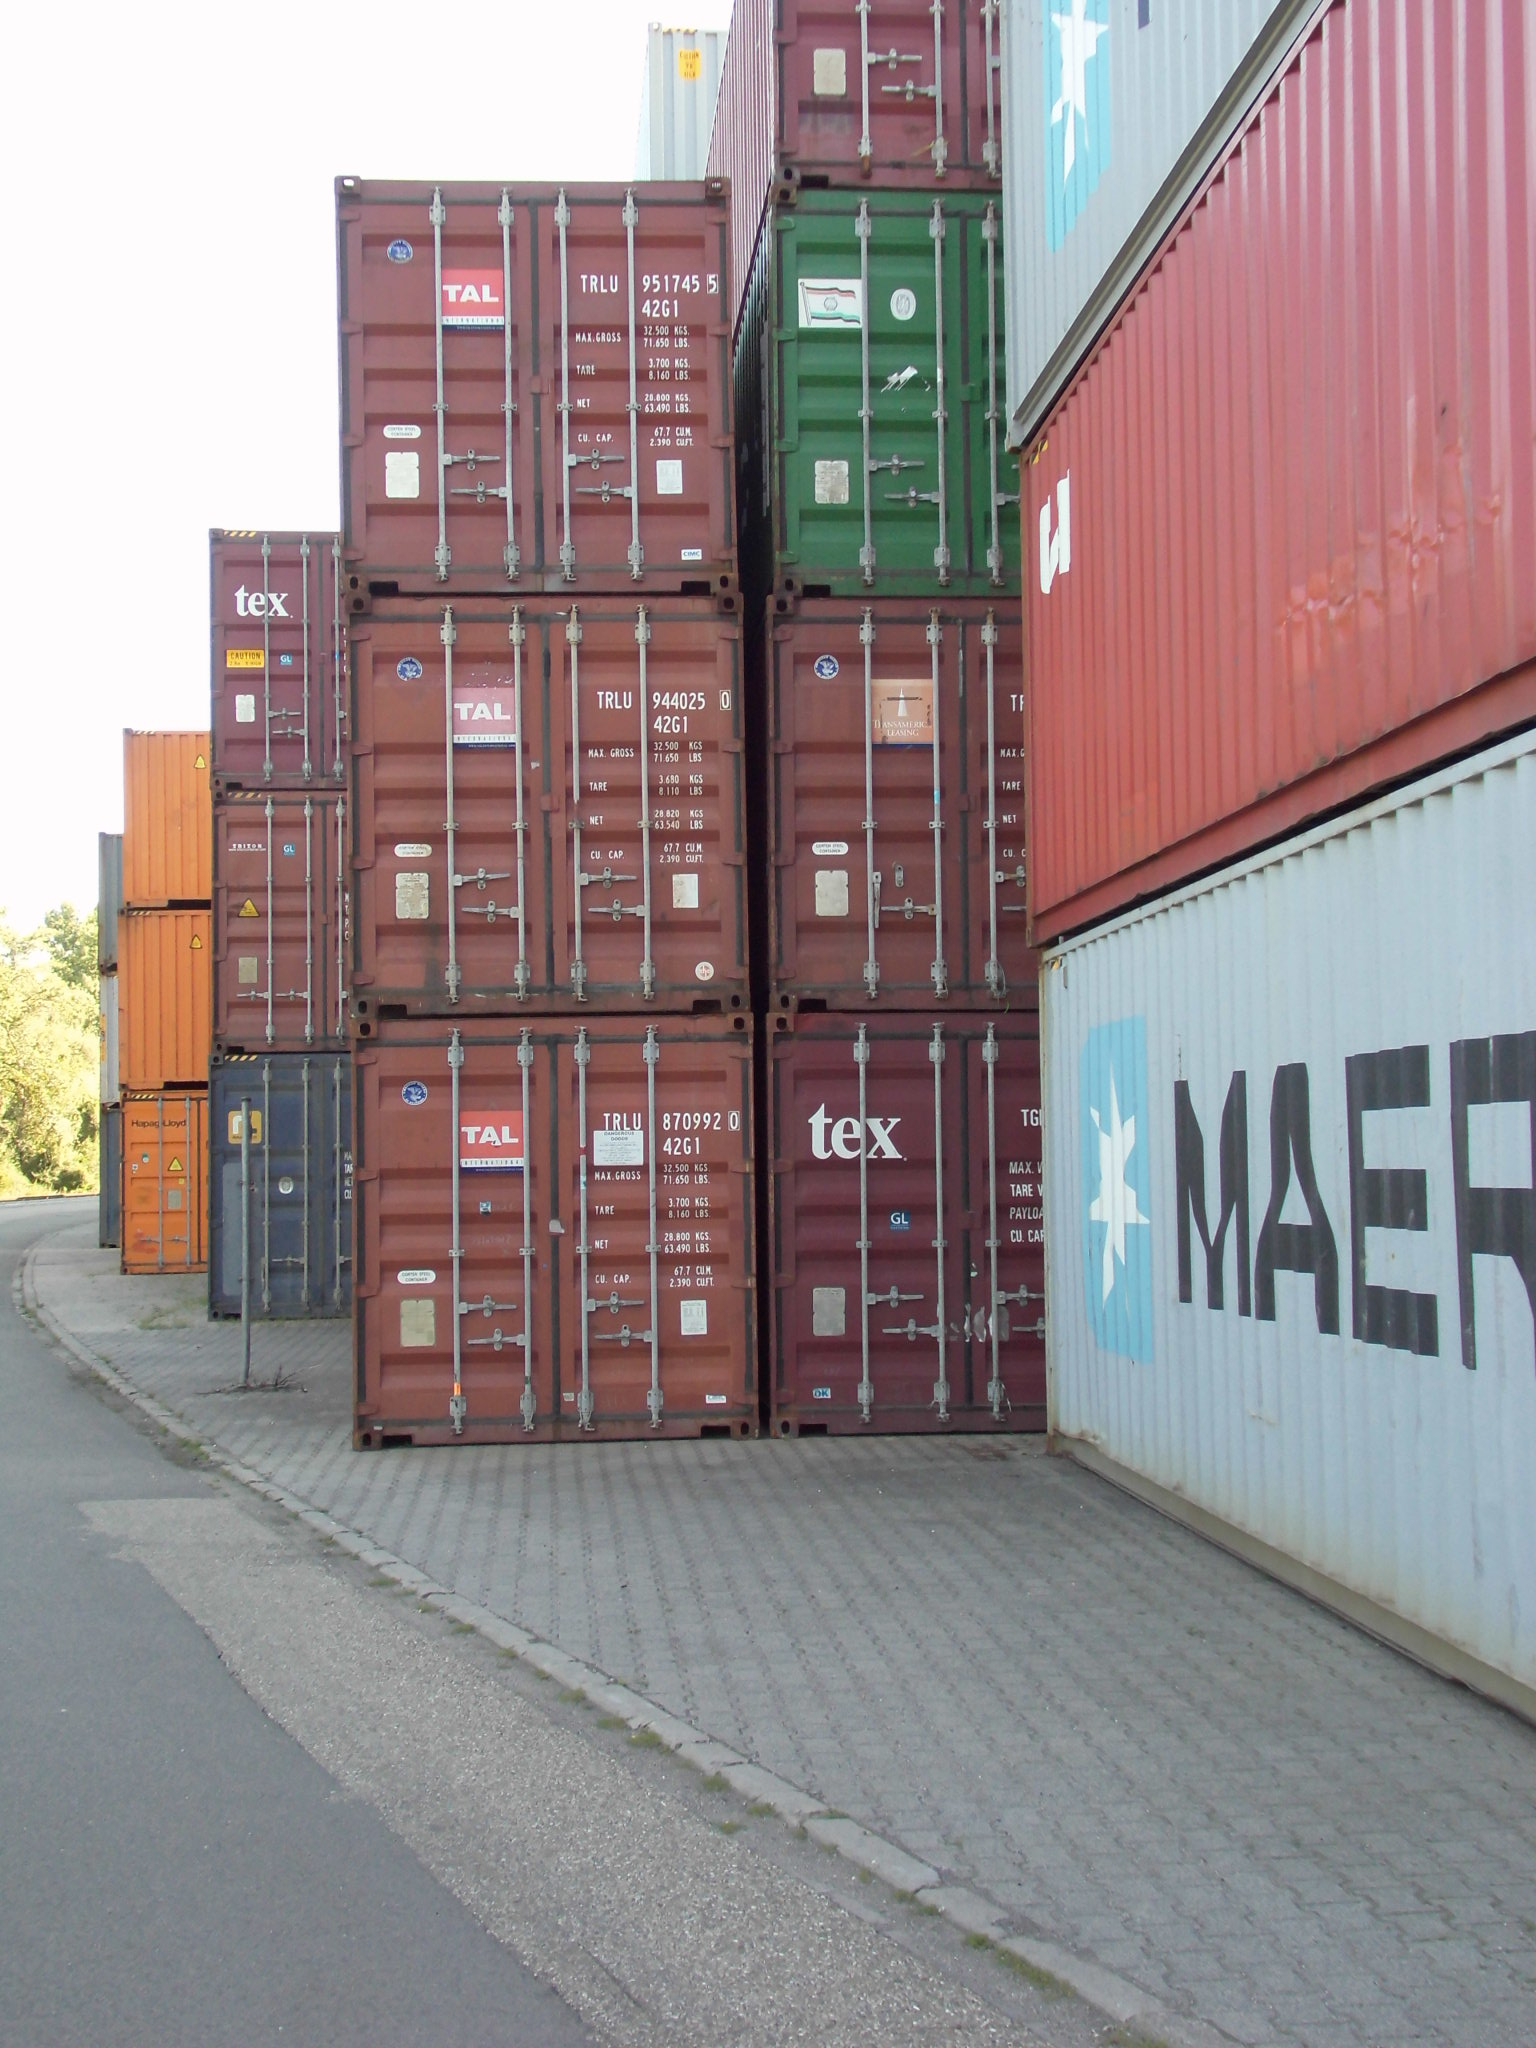container_door: (340, 605, 752, 1021), (350, 1026, 760, 1443), (326, 173, 736, 589), (774, 1021, 1062, 1448), (750, 155, 1037, 582), (762, 589, 1049, 1014)
